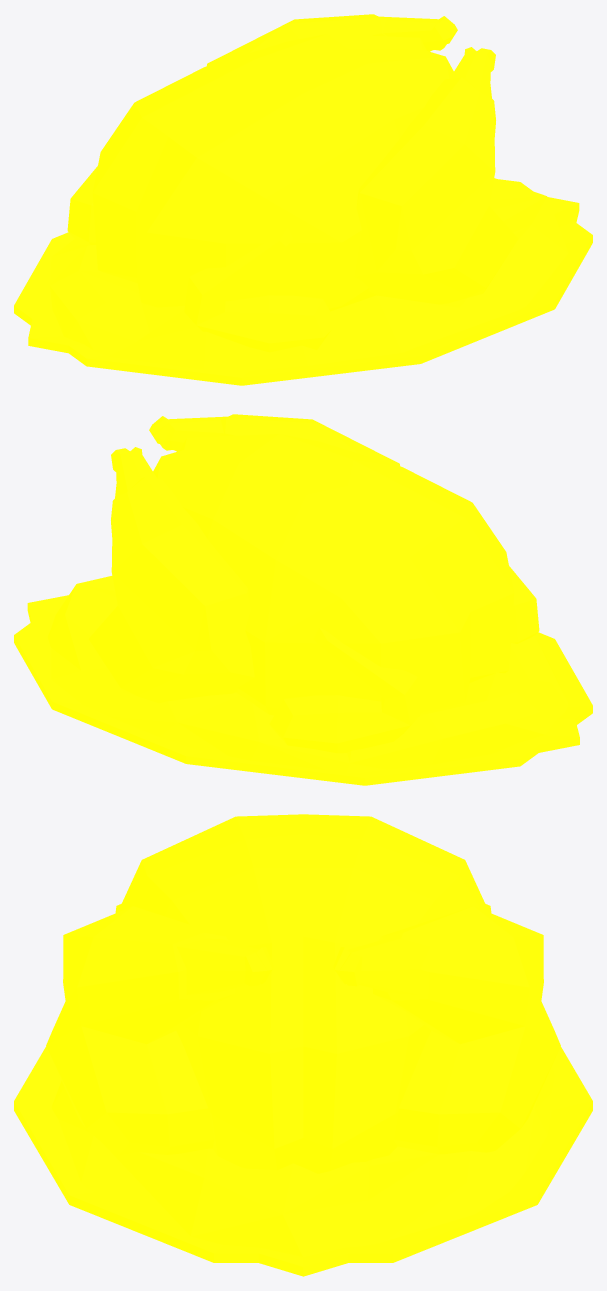
File: turkey-roasted.glb
The picture shows the model from 3 angles, top to bottom: view 1: azimuth 30°, elevation 25°; view 2: azimuth 150°, elevation 25°; view 3: azimuth 270°, elevation 25°; orthographic projection. The views are drawn at different scales.
Parts seen in each view (by area): view 1: turkey_roasted; view 2: turkey_roasted; view 3: turkey_roasted.
Boxes of the visible parts, x1=… form: turkey_roasted: x1=14, y1=14, x2=592, y2=385; turkey_roasted: x1=14, y1=414, x2=592, y2=785; turkey_roasted: x1=14, y1=814, x2=592, y2=1276.
Size of the model in its own units: 0.6003 by 0.2448 by 0.4426.
1 material, 1 textured.
